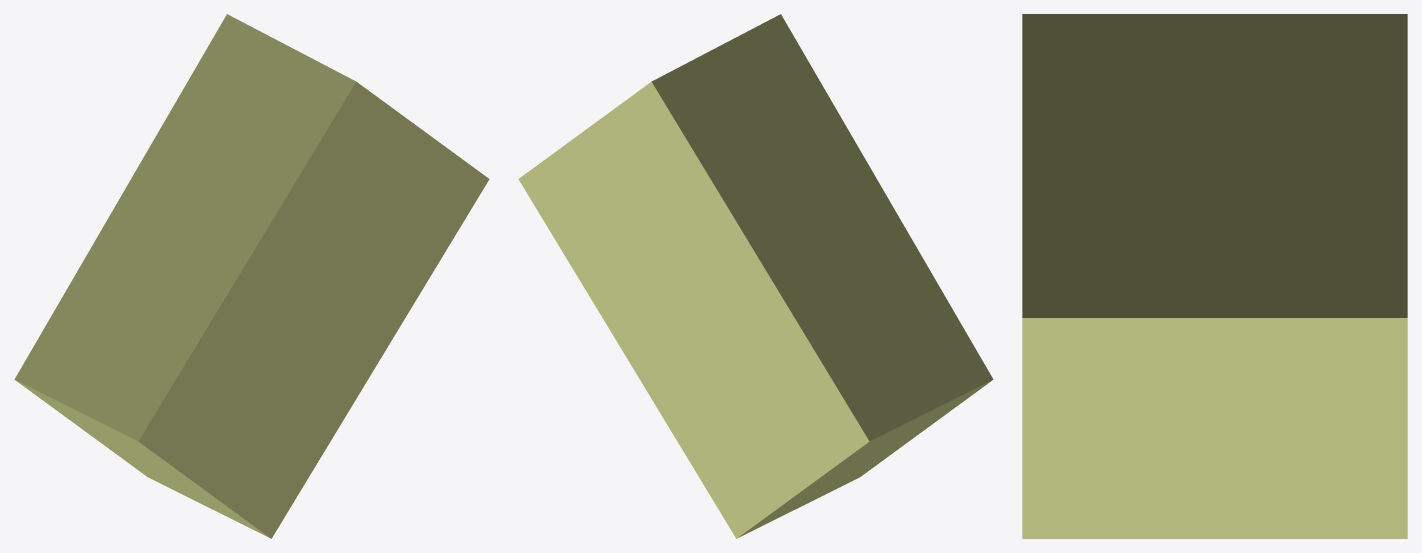
The picture shows the model from 3 angles, left to right: view 1: azimuth 30°, elevation 25°; view 2: azimuth 150°, elevation 25°; view 3: azimuth 270°, elevation 25°; orthographic projection. The views are drawn at different scales.
Parts seen in each view (by area): view 1: 0_0_1_3_2_2_1_0_2_0; view 2: 0_0_1_3_2_2_1_0_2_0; view 3: 0_0_1_3_2_2_1_0_2_0.
Boxes of the visible parts, x1=… form: 0_0_1_3_2_2_1_0_2_0: x1=14, y1=14, x2=489, y2=538; 0_0_1_3_2_2_1_0_2_0: x1=518, y1=14, x2=993, y2=538; 0_0_1_3_2_2_1_0_2_0: x1=1022, y1=14, x2=1407, y2=538.
Bounding box in the file's own units: 13.35 × 15.14 × 9.
